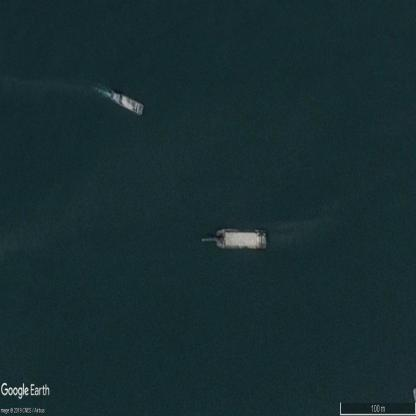ship: (202, 227, 266, 251), (109, 90, 144, 118)
